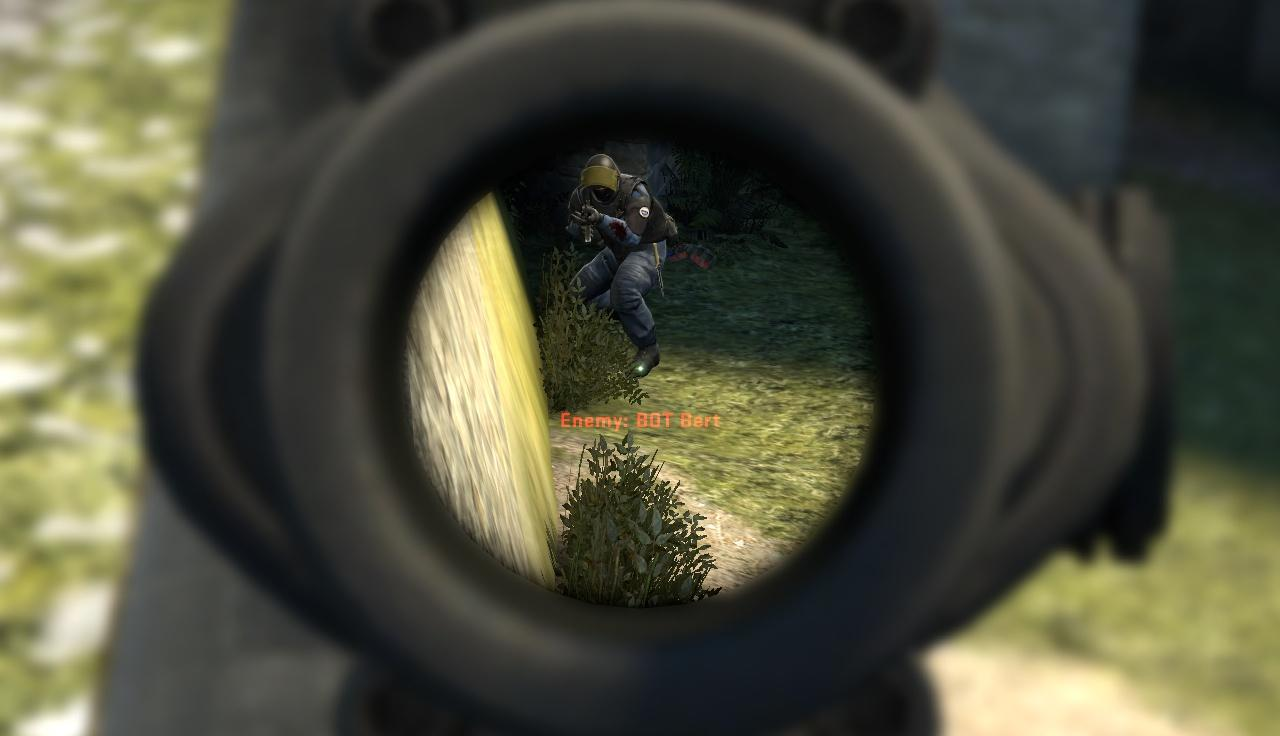ct: (578, 153, 660, 373)
cthead: (584, 156, 618, 200)
